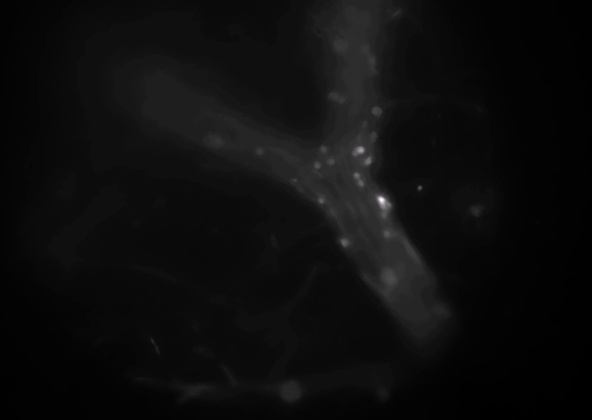cell: (375, 193, 389, 207), (352, 142, 366, 156), (370, 105, 384, 119), (347, 146, 361, 160), (362, 154, 376, 168), (315, 143, 329, 157), (309, 158, 323, 172), (324, 154, 338, 168), (323, 88, 337, 102), (350, 169, 364, 183), (334, 92, 348, 106), (353, 176, 367, 190), (336, 235, 350, 249), (382, 272, 396, 286), (382, 227, 396, 241), (381, 198, 395, 212), (374, 206, 388, 220), (377, 204, 391, 218), (314, 196, 328, 210), (287, 173, 301, 187), (253, 143, 267, 157), (207, 134, 221, 148), (358, 43, 372, 57), (366, 54, 380, 68), (333, 38, 347, 52), (366, 129, 380, 143)
